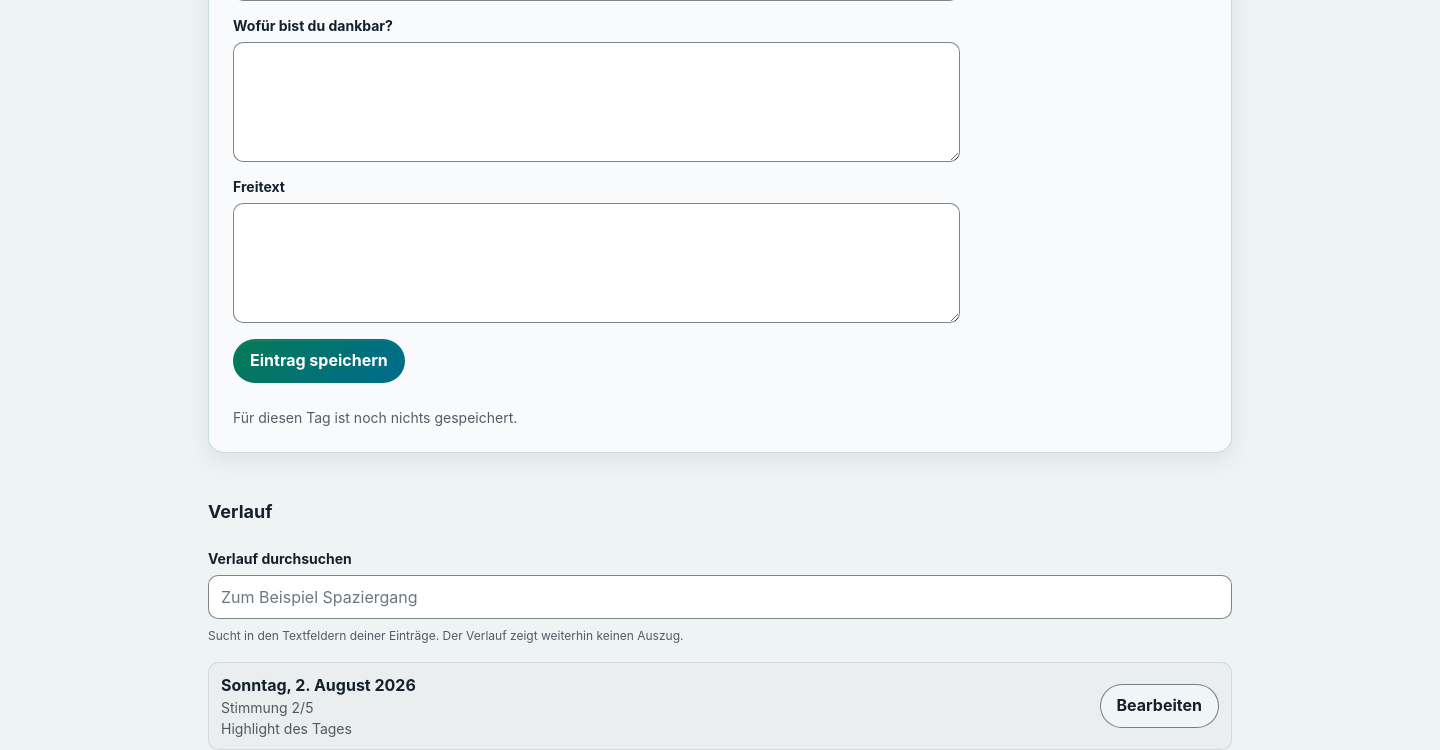
it: JournalPage › opens an older entry from the history and loads its values
(page scrolled)
Click the button with aria-label "Eintrag vom Sonntag, 2. August 2026 bearbeiten". click: {"x": 1159, "y": 706}
box: [1100,684,1219,728]
(page scrolled)
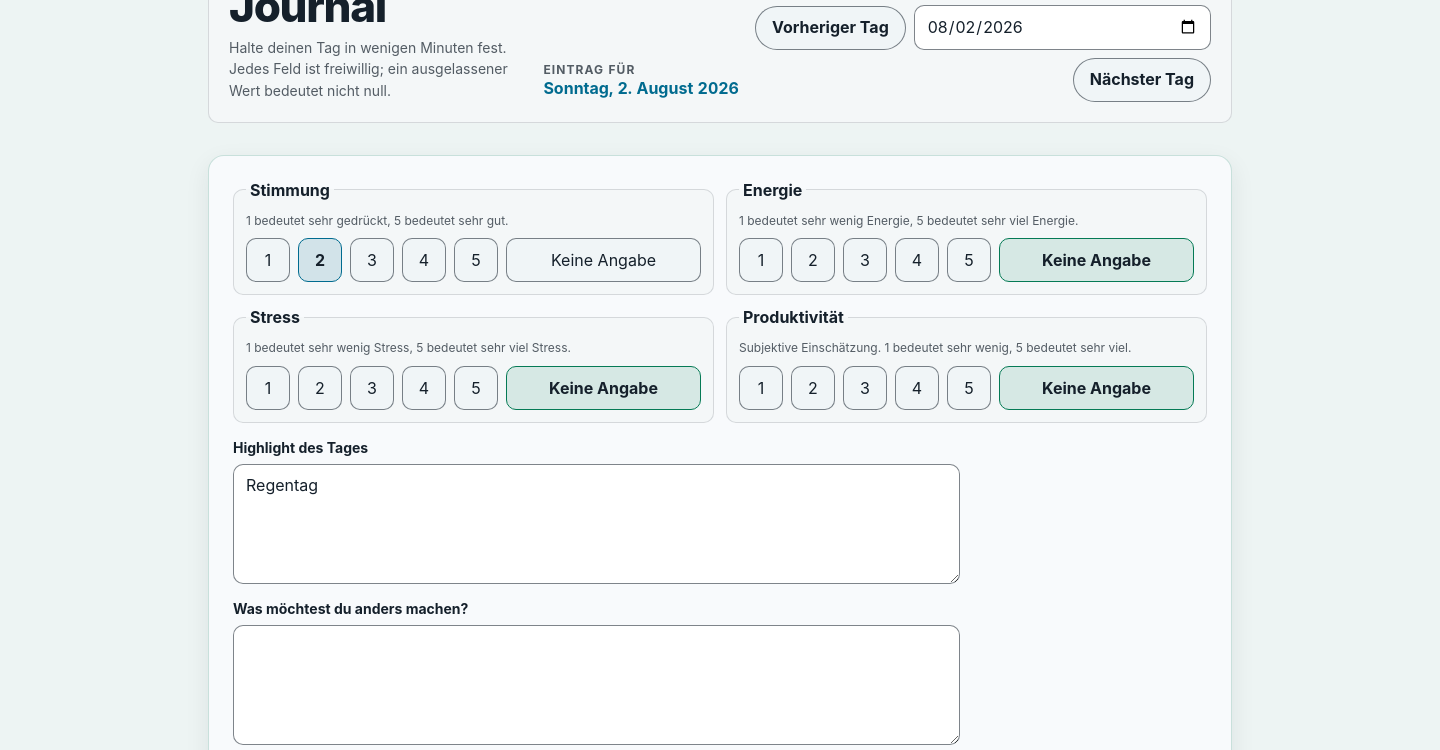
Check: the date field labelled "Tag der Reflexion" holds "2026-08-02", box [914,5,1211,50]
Check: the text box labelled "Highlight des Tages" holds "Regentag", box [233,464,960,584]
Check: the radio button named "2 von 5" is checked, box [298,238,342,282]
